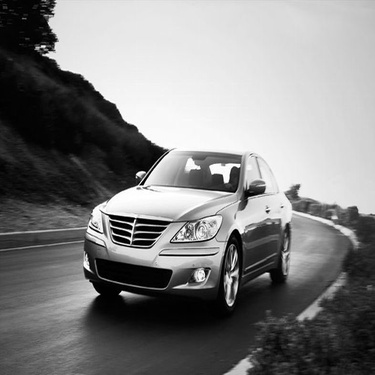car: (70, 141, 297, 301)
